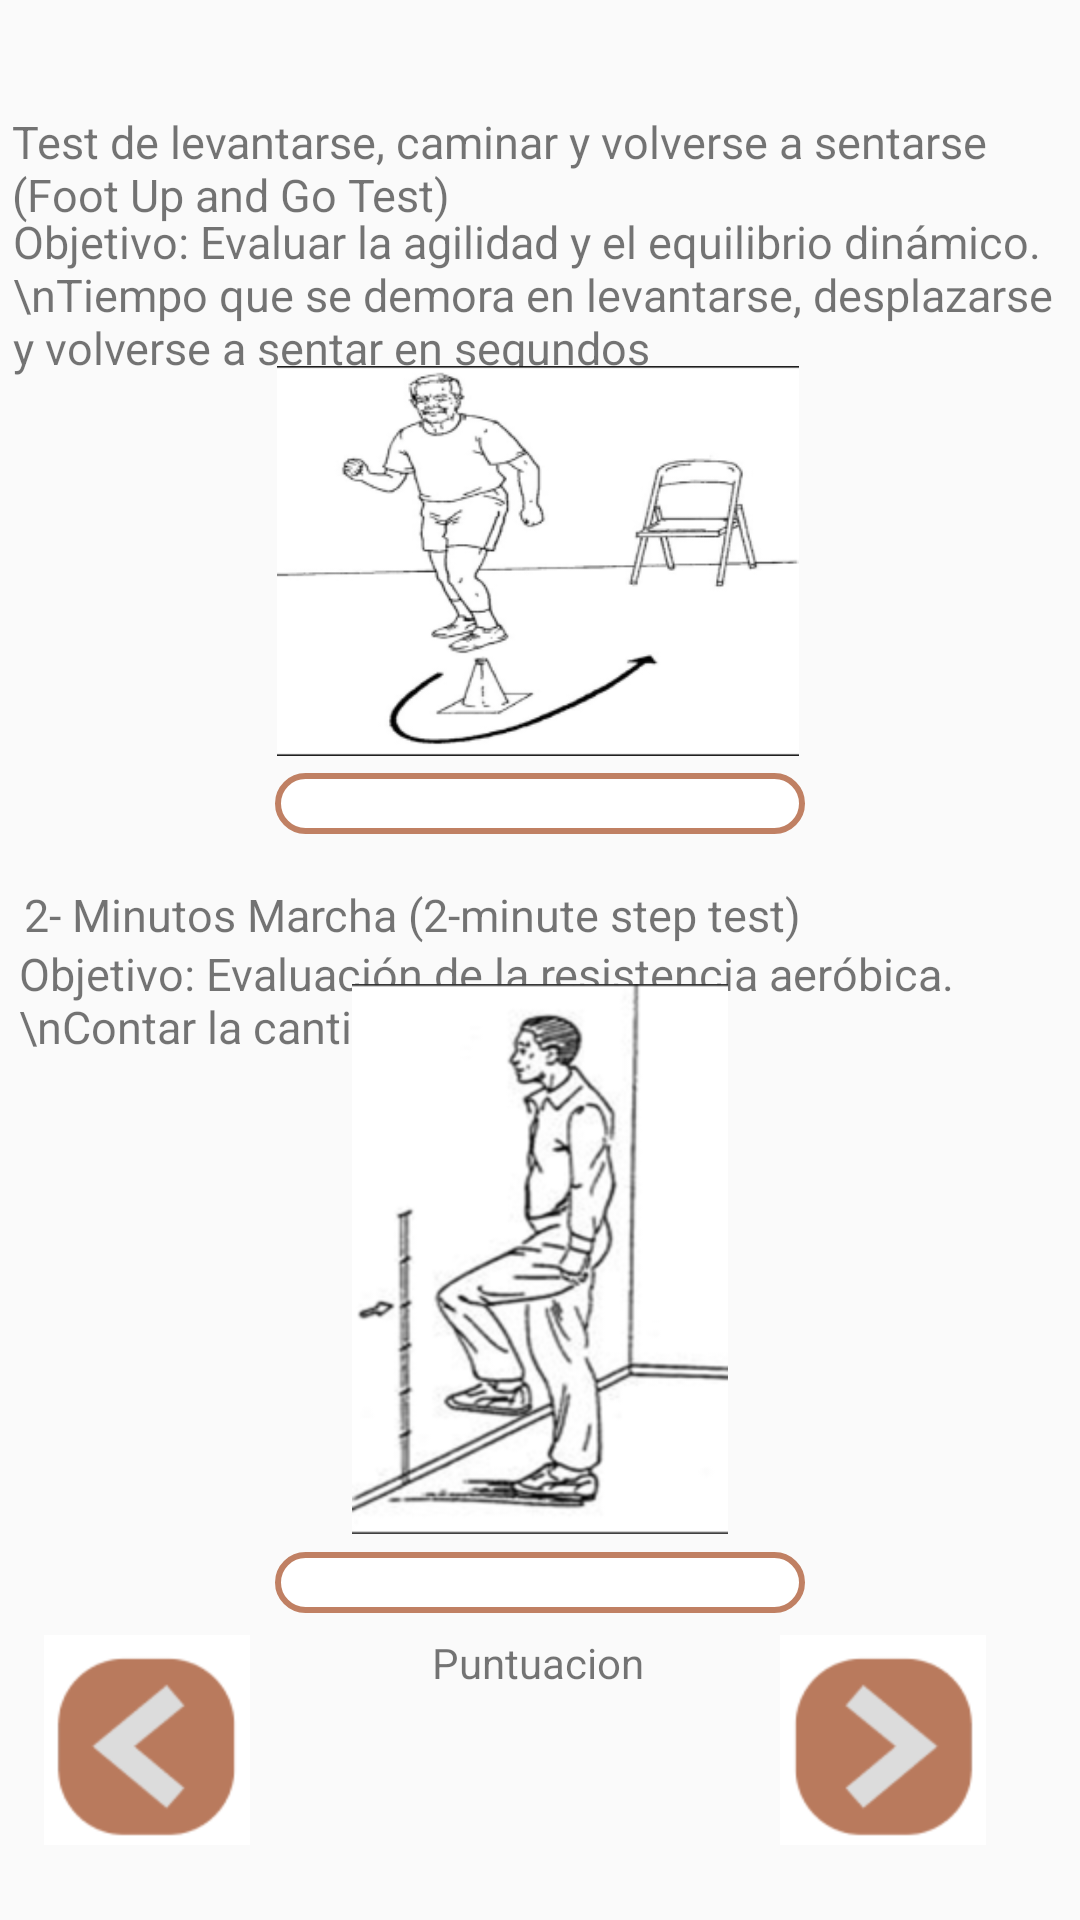

Point at icon controls on the screen. Image size 1080x1920, points as point (x, y).
regresar: point (146, 1747)
seguir: point (884, 1747)
